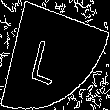L_N: (36, 25, 74, 85)
